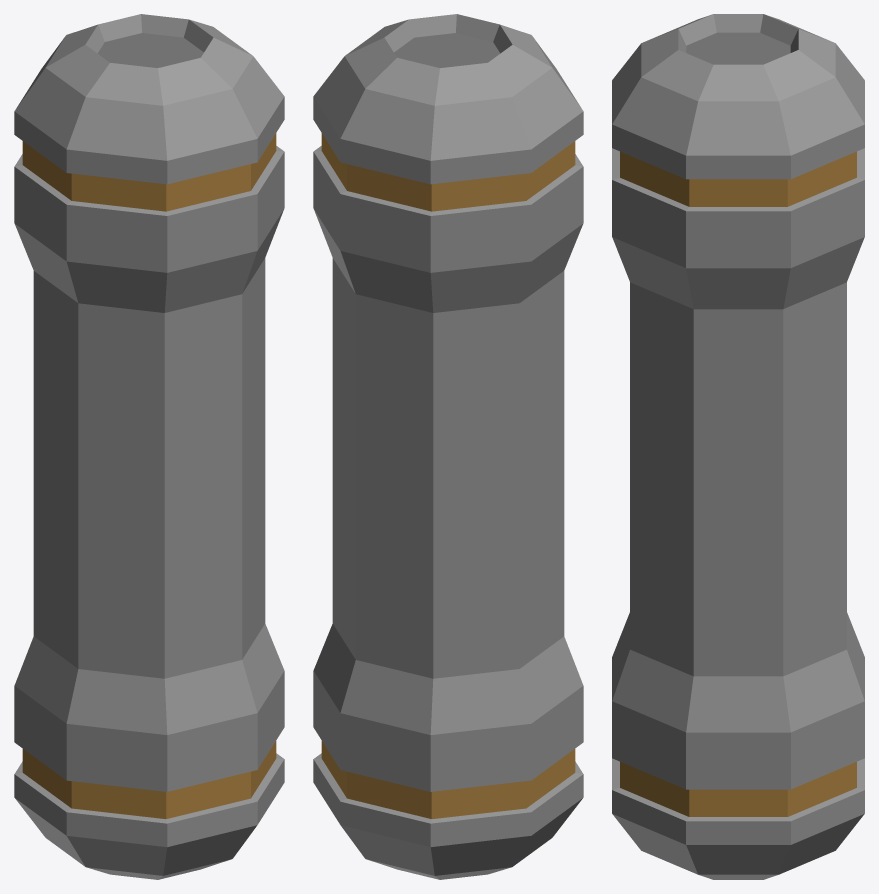
The model's file is Lab_Props_Vessel_Tall.gltf.
The picture shows the model from 3 angles, left to right: view 1: azimuth 30°, elevation 25°; view 2: azimuth 150°, elevation 25°; view 3: azimuth 270°, elevation 25°; orthographic projection.
Parts seen in each view (by area): view 1: Lab_Props_Vessel_Tall; view 2: Lab_Props_Vessel_Tall; view 3: Lab_Props_Vessel_Tall.
Part boxes in pixels (x1=…): Lab_Props_Vessel_Tall: x1=14, y1=14, x2=284, y2=879; Lab_Props_Vessel_Tall: x1=313, y1=14, x2=583, y2=879; Lab_Props_Vessel_Tall: x1=612, y1=14, x2=864, y2=879.
Bounding box in the file's own units: 0.5619 × 2 × 0.5619.
